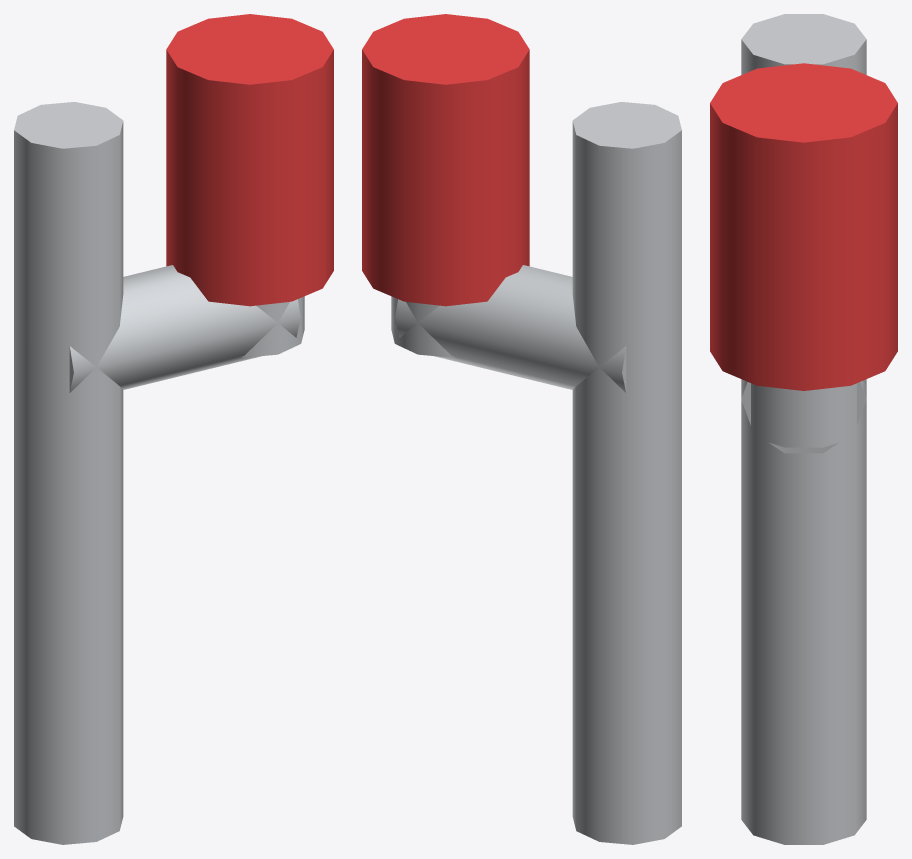
File: acc-condensate-trap-ss2.glb
The picture shows the model from 3 angles, left to right: view 1: azimuth 30°, elevation 25°; view 2: azimuth 150°, elevation 25°; view 3: azimuth 270°, elevation 25°; orthographic projection. The views are drawn at different scales.
Parts seen in each view (by area): view 1: hvac-fitting-condensate-p-trap-ss2; view 2: hvac-fitting-condensate-p-trap-ss2; view 3: hvac-fitting-condensate-p-trap-ss2.
Part boxes in pixels (x1,y1,x2,y2): hvac-fitting-condensate-p-trap-ss2: (14, 14, 333, 844); hvac-fitting-condensate-p-trap-ss2: (362, 14, 681, 844); hvac-fitting-condensate-p-trap-ss2: (710, 14, 897, 844).
Bounding box in the file's own units: 0.0992 × 0.23 × 0.048.
